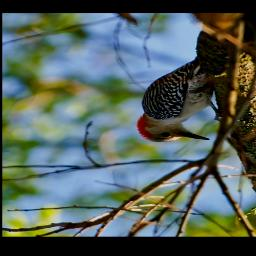Woodpecker: (117, 50, 231, 147)
